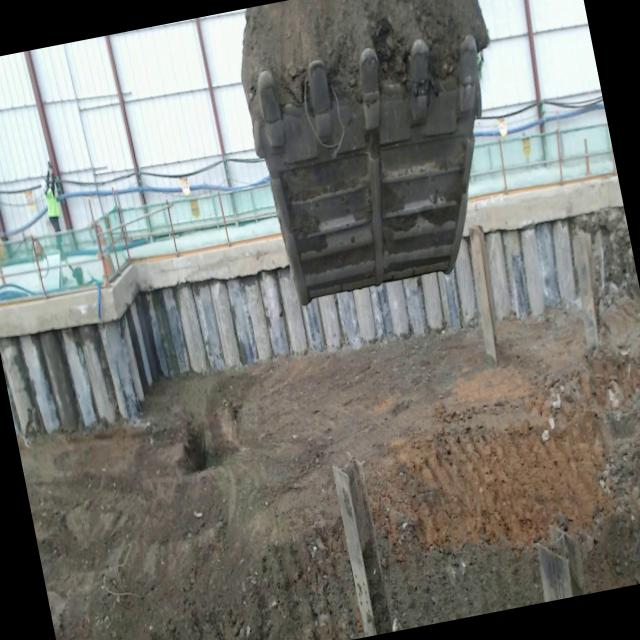white-sand: (18, 296, 640, 640), (241, 0, 488, 136)
